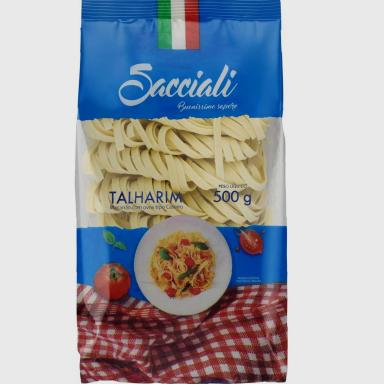pasta package: (77, 0, 287, 383)
